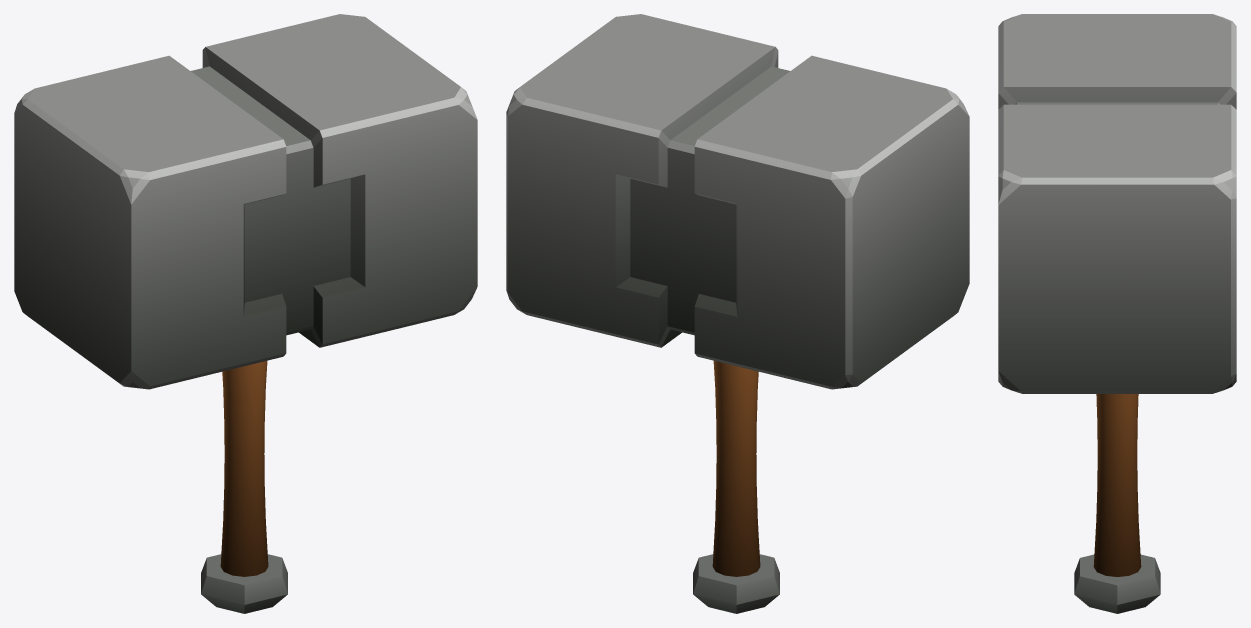
Rendered from WEAPON-8.fbx.
3 views of the same model, side by side, from view 1: azimuth 30°, elevation 25°; view 2: azimuth 150°, elevation 25°; view 3: azimuth 270°, elevation 25° (orthographic).
Visible parts, largest first — view 1: WEAPON-8; view 2: WEAPON-8; view 3: WEAPON-8.
Boxes of the visible parts, x1,y1,x2,y2 form: WEAPON-8: (14, 14, 477, 613); WEAPON-8: (506, 14, 969, 613); WEAPON-8: (998, 14, 1236, 613).
Bounding box in the file's own units: 86.15 × 120 × 51.63.
